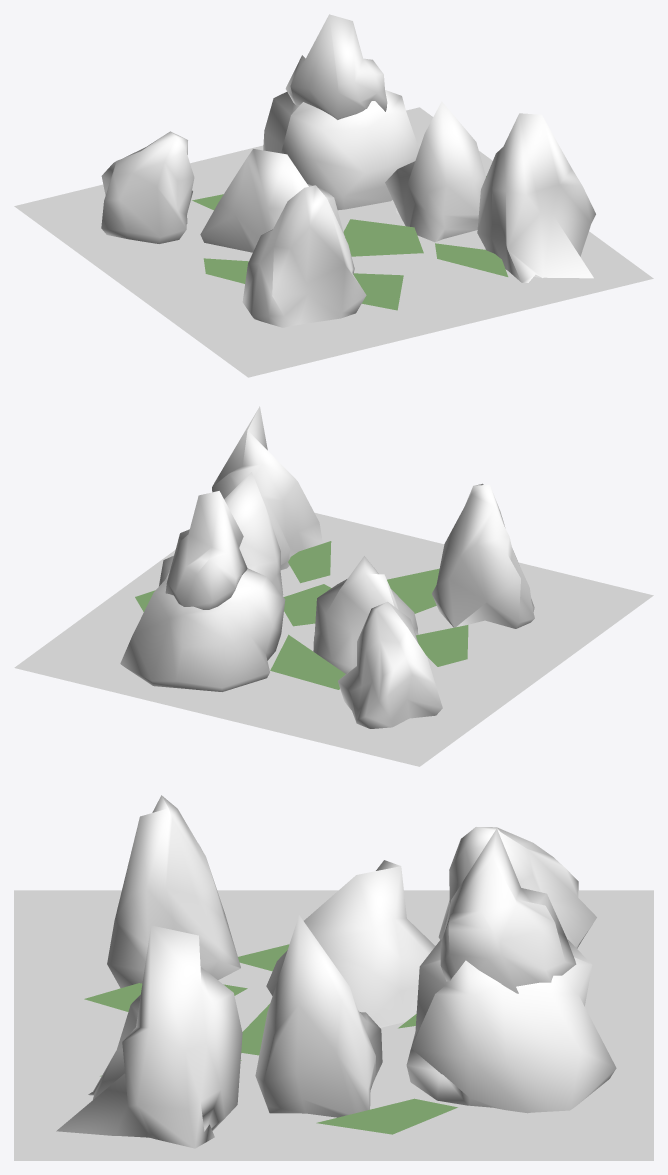
File: mountain-rocks.glb
The picture shows the model from 3 angles, top to bottom: view 1: azimuth 30°, elevation 25°; view 2: azimuth 150°, elevation 25°; view 3: azimuth 270°, elevation 25°; orthographic projection. The views are drawn at different scales.
Parts seen in each view (by area): view 1: Cube.001, Plane.001, grass.001; view 2: Cube.001, Plane.001, grass.001; view 3: Cube.001, Plane.001, grass.001.
Part boxes in pixels (<box>): Cube.001: <box>101,14,595,327</box>; Plane.001: <box>14,107,653,377</box>; grass.001: <box>192,176,508,310</box>; Cube.001: <box>120,406,534,728</box>; Plane.001: <box>14,513,653,766</box>; grass.001: <box>135,541,468,689</box>; Cube.001: <box>56,795,616,1148</box>; Plane.001: <box>14,890,653,1160</box>; grass.001: <box>84,944,457,1134</box>.
Size of the model in its own units: 2 by 0.8516 by 2.
